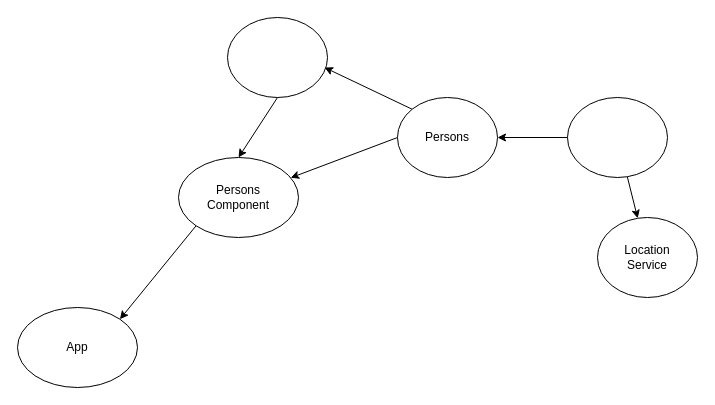
This 715x405 diagram has some shape labels left out. The shapes that lost their labels are listed below. From the top down, each one's box as (x1, y1, x2, y2) in pixels, then its label:
(226, 16, 328, 98): Connection Component
(566, 96, 668, 178): Connection Service
